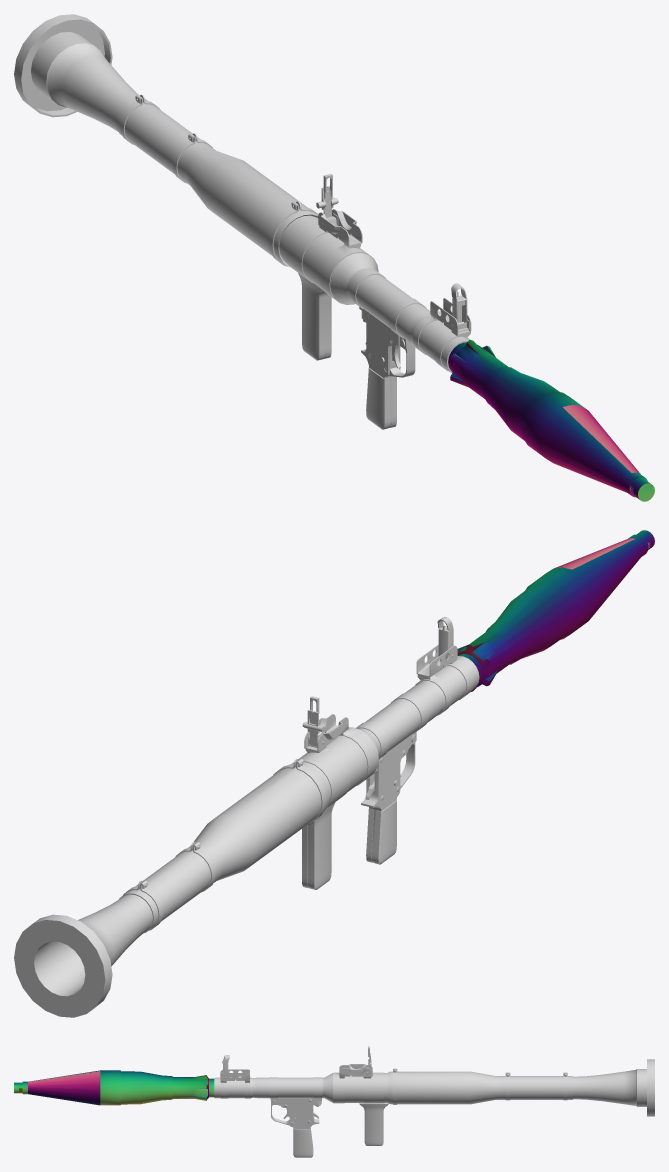
Rendered from rpg.fbx.
The picture shows the model from 3 angles, top to bottom: view 1: azimuth 30°, elevation 25°; view 2: azimuth 150°, elevation 25°; view 3: azimuth 270°, elevation 25°; orthographic projection. The views are drawn at different scales.
Visible parts, largest first — view 1: rpg_launcher, rpg_rocket; view 2: rpg_launcher, rpg_rocket; view 3: rpg_launcher, rpg_rocket.
Boxes of the visible parts, box(x1,y1,x2,y2) form: rpg_launcher: box(14, 14, 471, 429); rpg_rocket: box(448, 339, 654, 501); rpg_launcher: box(14, 617, 479, 1017); rpg_rocket: box(457, 530, 654, 691); rpg_launcher: box(214, 1046, 654, 1157); rpg_rocket: box(14, 1070, 214, 1105).
Size of the model in its own units: 12.17 by 25.72 by 135.
